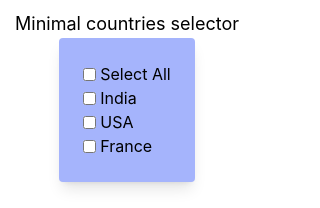
Test: App component tests › deselecting select all checkbox unchecks all country checkboxes
Click the checkbox labelled "Select All".
click(90, 74)  # box [83, 68, 96, 80]
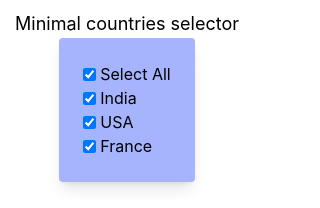
Click the checkbox labelled "Select All".
click(90, 74)  # box [83, 68, 96, 80]
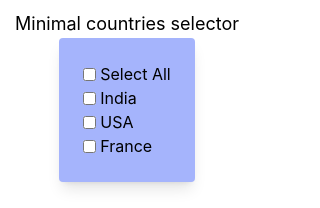
Check: the checkbox labelled "India" is not checked, box [83, 92, 96, 104]
Check: the checkbox labelled "USA" is not checked, box [83, 116, 96, 128]
Check: the checkbox labelled "France" is not checked, box [83, 140, 96, 152]
